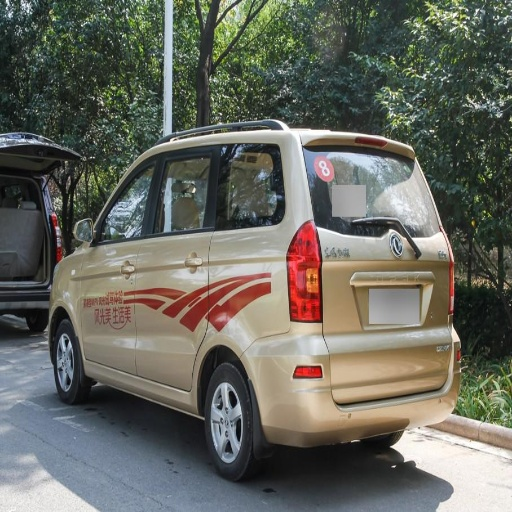back_bumper: (254, 324, 451, 444)
back_glass: (321, 149, 438, 235)
back_left_door: (137, 134, 286, 390)
trunk: (302, 230, 454, 403)
